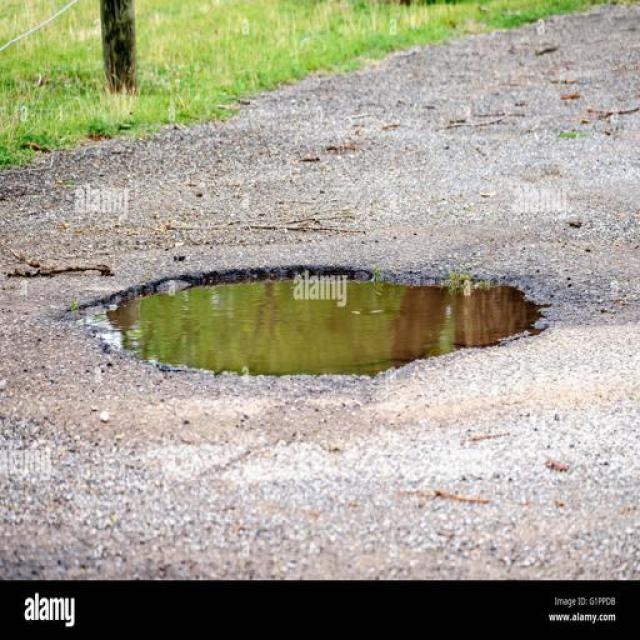puddle: (142, 279, 502, 361)
